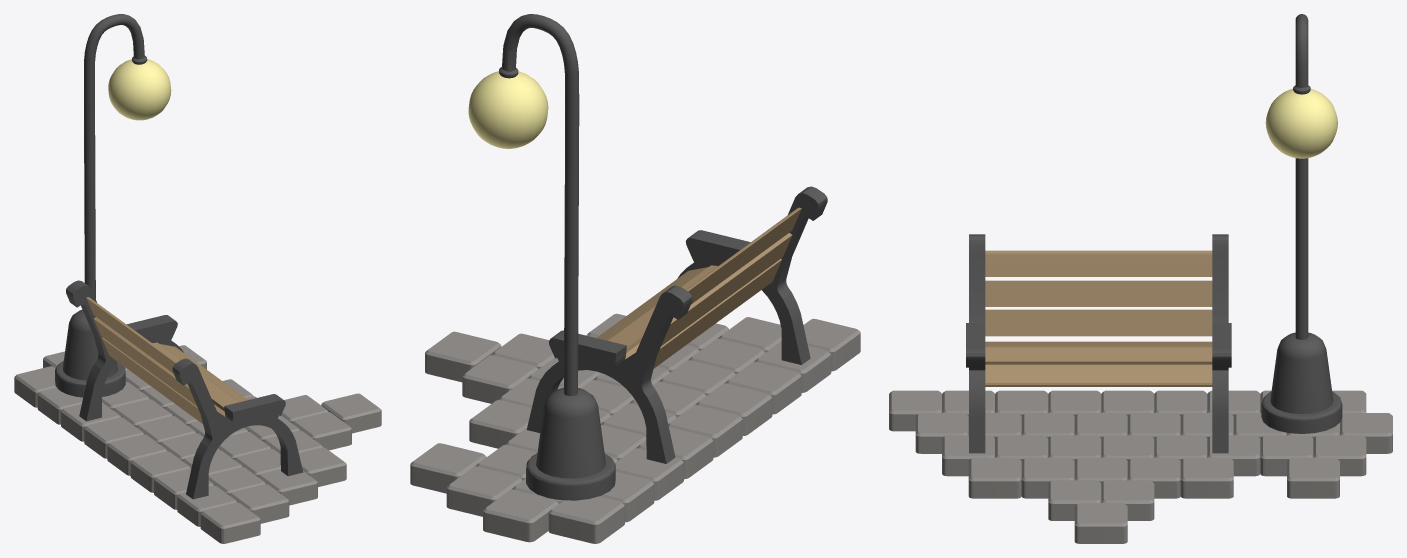
The model's file is PS_Lab10.fbx.
3 renders of one model, left to right at view 1: azimuth 30°, elevation 25°; view 2: azimuth 150°, elevation 25°; view 3: azimuth 270°, elevation 25°, orthographic. The views are drawn at different scales.
Visible parts, largest first — view 1: ParkBenchSide, P02 (×4), LampPole, P01 (×2), P04 (×4), ParkBenchSide1, Lamp, P03 (×4), LampBase, P05 (×2), P06 (×2), P07 (×2) (+10 smaller); view 2: P09 (×3), ParkBenchSide1, LampBase, LampPole, ParkBenchSide, P08 (×3), Lamp, P05 (×4), P06 (×3), P04 (×3), P03 (×2), P01 (×2) (+10 smaller); view 3: Plank03, Plank01, Plank02, LampBase, P06 (×4), P03 (×4), P05 (×4), P02 (×4), Plank06, P04 (×4), Plank05, P09 (×3) (+11 smaller).
Boxes of the visible parts, x1,y1,x2,y2 form: ParkBenchSide: (172, 358, 303, 499); P02 (×4): (177, 447, 346, 526); LampPole: (84, 14, 147, 298); P01 (×2): (200, 484, 289, 543); P04 (×4): (130, 415, 299, 492); ParkBenchSide1: (66, 280, 183, 421); Lamp: (108, 59, 171, 120); P03 (×4): (154, 430, 322, 509); LampBase: (55, 309, 125, 397); P05 (×2): (107, 416, 196, 475); P06 (×2): (84, 399, 172, 458); P07 (×2): (61, 382, 149, 441); P09 (×3): (446, 466, 624, 543); ParkBenchSide1: (526, 285, 692, 463); LampBase: (526, 388, 615, 500); LampPole: (499, 14, 579, 395); ParkBenchSide: (677, 186, 827, 364); P08 (×3): (410, 443, 654, 522); Lamp: (468, 71, 548, 148); P05 (×4): (498, 378, 742, 457); P06 (×3): (469, 400, 713, 479); P04 (×3): (528, 358, 772, 435); P03 (×2): (660, 360, 801, 414); P01 (×2): (718, 317, 860, 371); Plank03: (985, 309, 1212, 336); Plank01: (985, 250, 1212, 276); Plank02: (985, 280, 1212, 306); LampBase: (1261, 332, 1342, 433); P06 (×4): (1154, 390, 1233, 498); P03 (×4): (995, 390, 1074, 498); P05 (×4): (1101, 390, 1180, 498); P02 (×4): (942, 390, 1021, 498); Plank06: (985, 364, 1212, 386); P04 (×4): (1048, 390, 1127, 483); Plank05: (985, 347, 1212, 364); P09 (×3): (1313, 390, 1392, 476).
Bounding box in the file's own units: 6.2 × 8.99 × 9.5.
